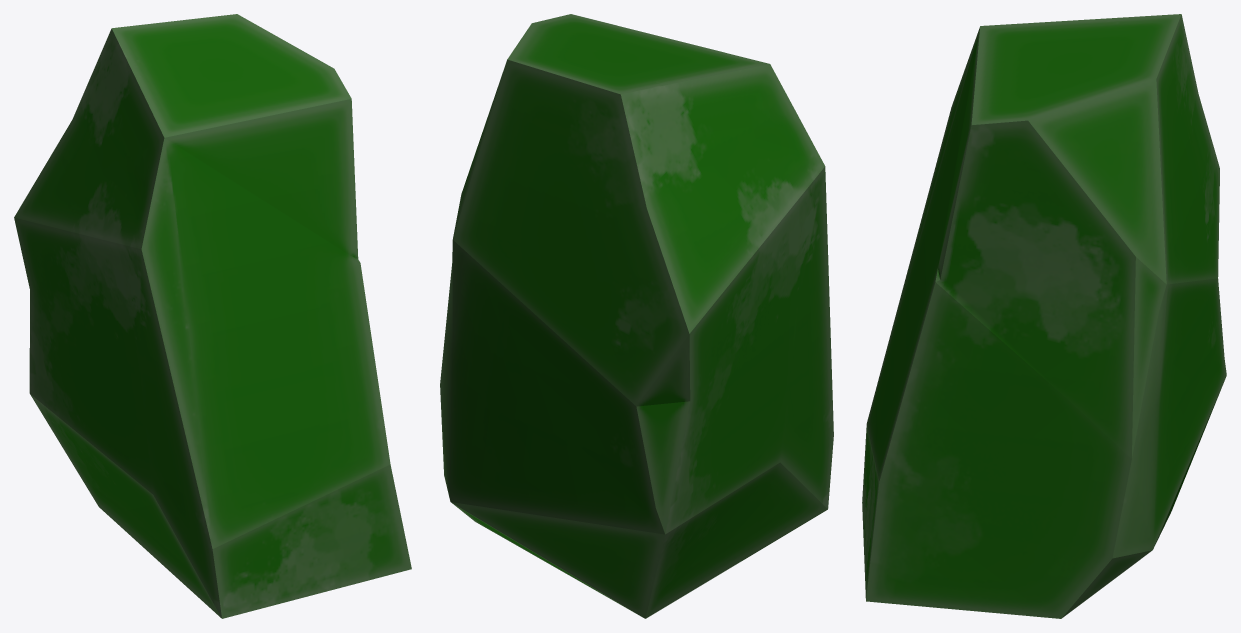
Rendered from Rock_04_01.fbx.
3 views of the same model, side by side, from view 1: azimuth 30°, elevation 25°; view 2: azimuth 150°, elevation 25°; view 3: azimuth 270°, elevation 25° (orthographic). The views are drawn at different scales.
Visible parts, largest first — view 1: Rock_04_01; view 2: Rock_04_01; view 3: Rock_04_01.
Boxes of the visible parts, x1,y1,x2,y2 form: Rock_04_01: (14, 14, 411, 618); Rock_04_01: (440, 14, 833, 618); Rock_04_01: (862, 14, 1226, 618).
Bounding box in the file's own units: 1.14 × 1.89 × 1.23.
